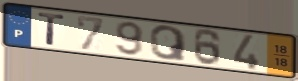4: (232, 33, 262, 72)
6: (193, 28, 223, 67)
7: (75, 14, 105, 52)
9: (114, 20, 146, 57)
Q: (149, 25, 188, 63)
T: (36, 11, 68, 47)
